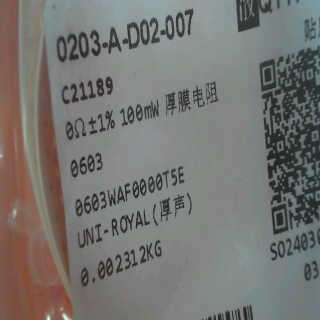0R: (64, 105, 117, 185)
